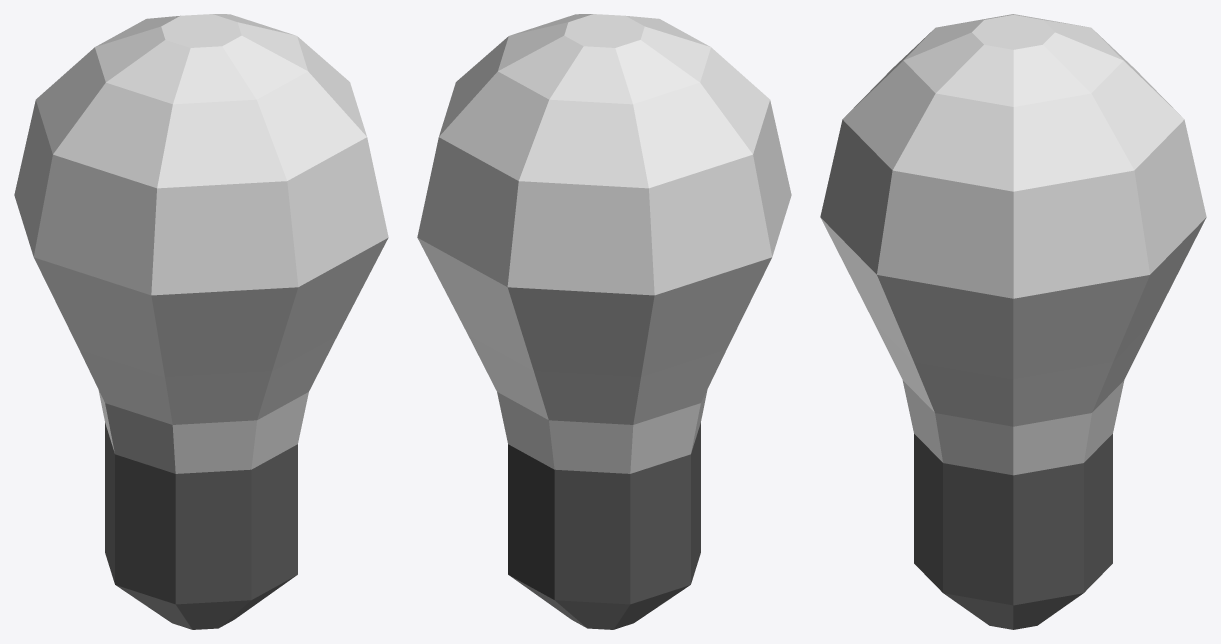
Rendered from Light bulb.fbx.
3 renders of one model, left to right at view 1: azimuth 30°, elevation 25°; view 2: azimuth 150°, elevation 25°; view 3: azimuth 270°, elevation 25°, orthographic.
Visible parts, largest first — view 1: Lightbulb; view 2: Lightbulb; view 3: Lightbulb.
Boxes of the visible parts, bbox=[...] form: Lightbulb: bbox=[14, 14, 388, 629]; Lightbulb: bbox=[417, 14, 791, 629]; Lightbulb: bbox=[820, 14, 1206, 629].
Bounding box in the file's own units: 67.72 × 113 × 67.72.
